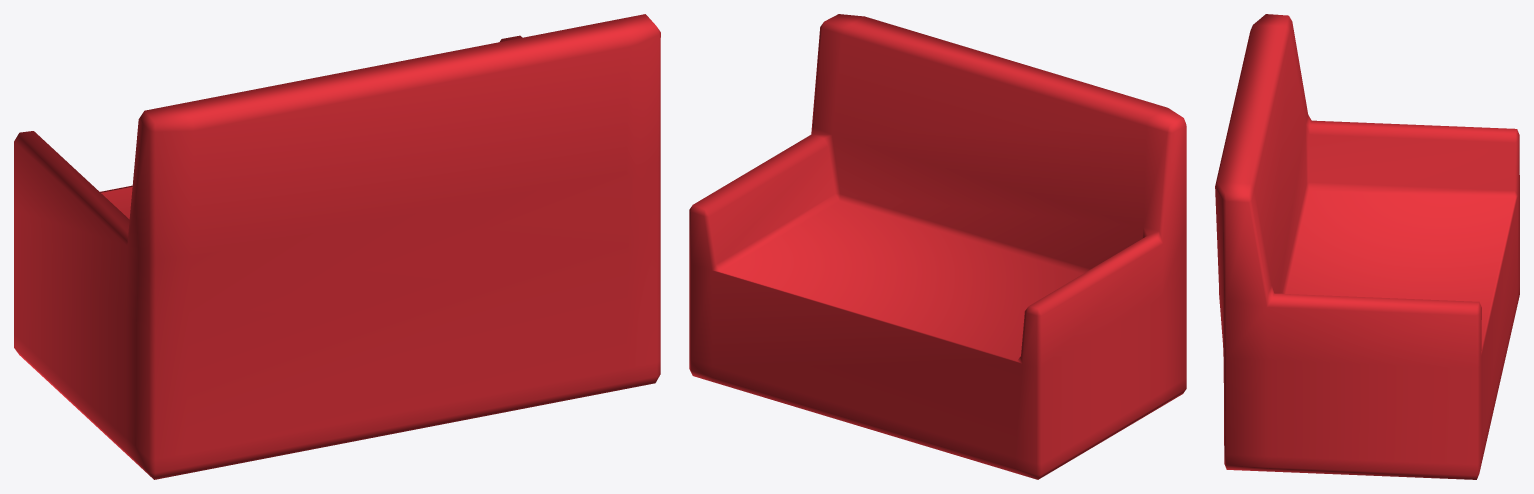
Rendered from sofa.fbx.
The picture shows the model from 3 angles, left to right: view 1: azimuth 30°, elevation 25°; view 2: azimuth 150°, elevation 25°; view 3: azimuth 270°, elevation 25°; orthographic projection. The views are drawn at different scales.
Parts seen in each view (by area): view 1: Sofa; view 2: Sofa; view 3: Sofa.
Boxes of the visible parts, left/top/right/bottom form: Sofa: left=14, top=14, right=660, bottom=479; Sofa: left=689, top=14, right=1186, bottom=479; Sofa: left=1215, top=14, right=1519, bottom=479.
Size of the model in its own units: 156 by 104 by 104.
